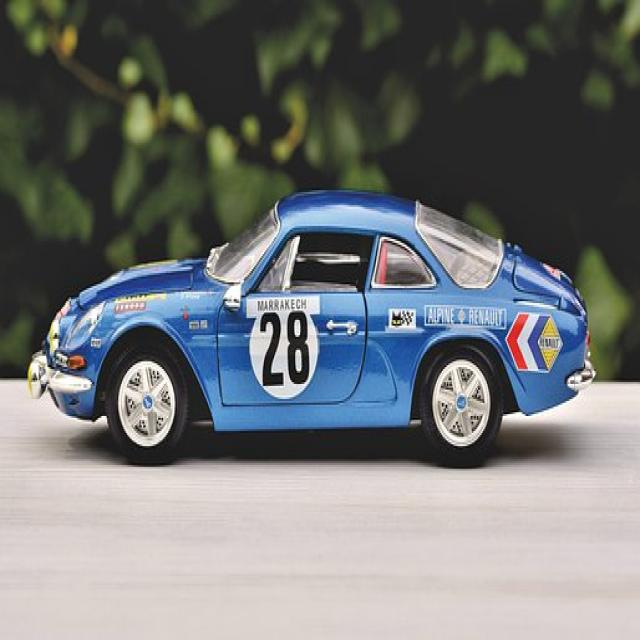Car: (26, 186, 597, 467)
